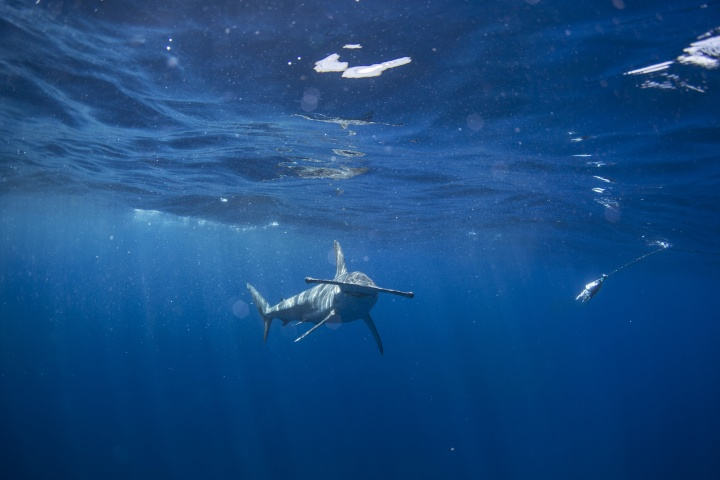Hammer: (223, 223, 428, 367)
